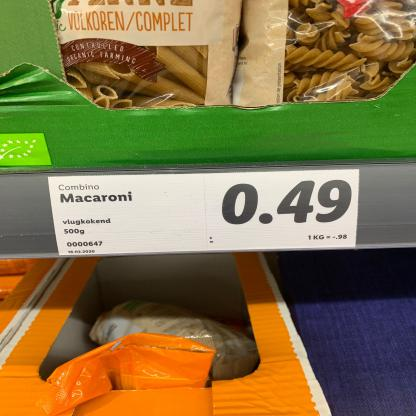prtg: (49, 170, 361, 256)
